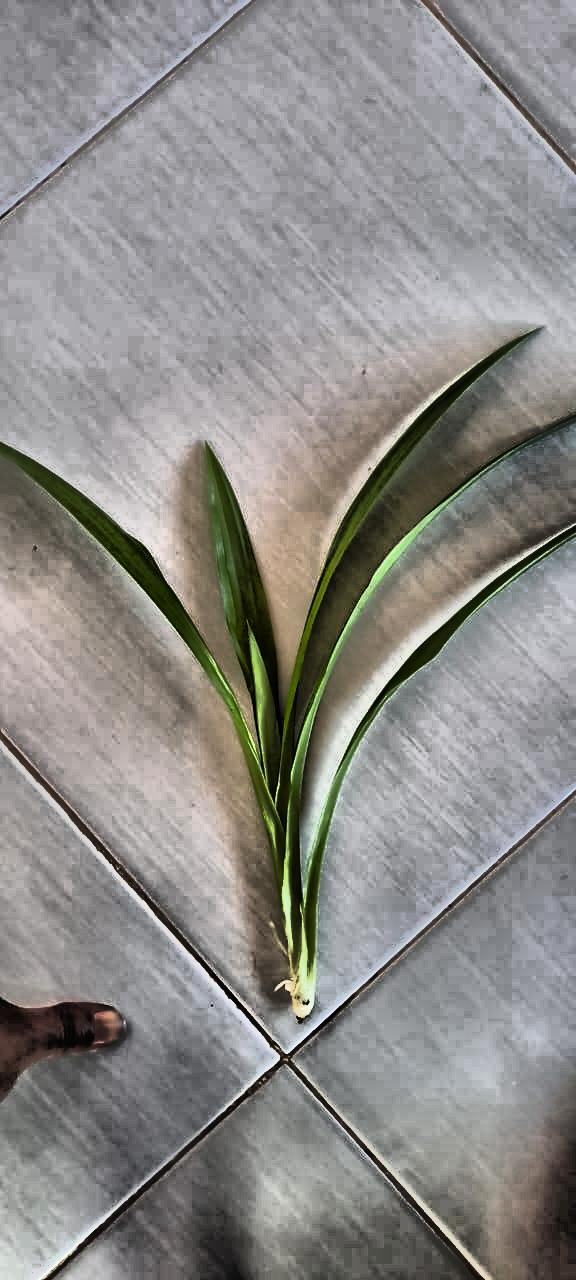daun pandan: (0, 334, 575, 1019)
